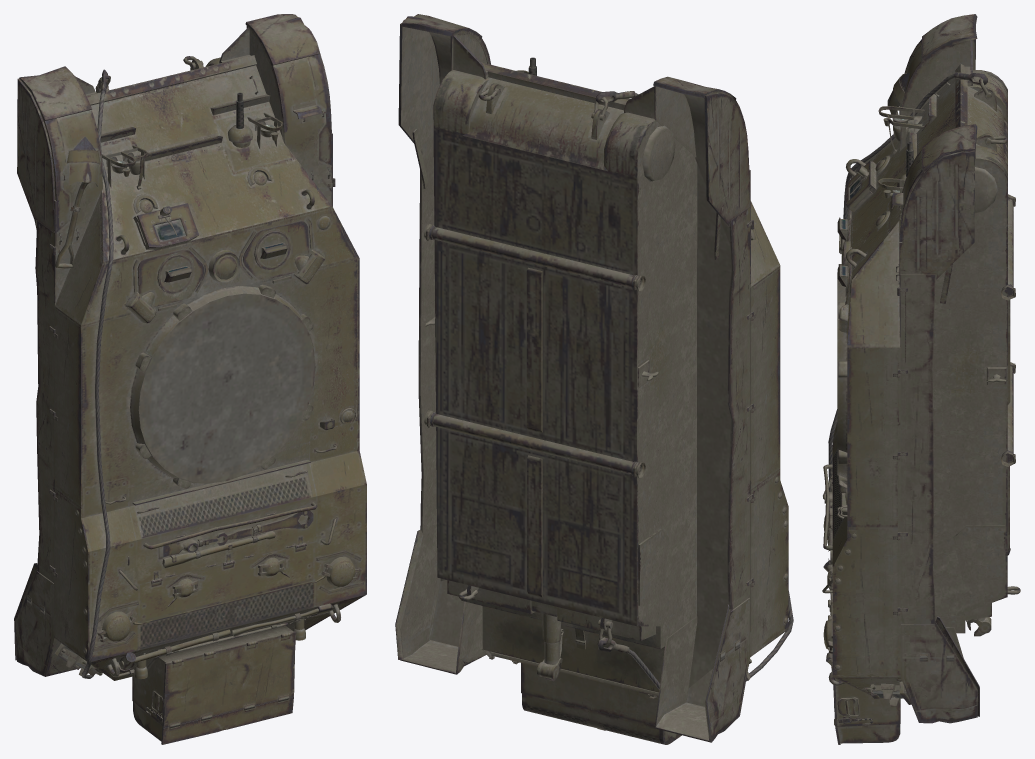
The model's file is Hull.glb.
3 views of the same model, side by side, from view 1: azimuth 30°, elevation 25°; view 2: azimuth 150°, elevation 25°; view 3: azimuth 270°, elevation 25° (orthographic). The views are drawn at different scales.
Parts seen in each view (by area): view 1: set_0_group_0; view 2: set_0_group_0; view 3: set_0_group_0.
Boxes of the visible parts, bbox=[...] form: set_0_group_0: bbox=[14, 14, 366, 744]; set_0_group_0: bbox=[395, 14, 793, 744]; set_0_group_0: bbox=[822, 14, 1020, 744].
Bounding box in the file's own units: 2.32 × 4.97 × 1.41.
1 material, 1 textured.
